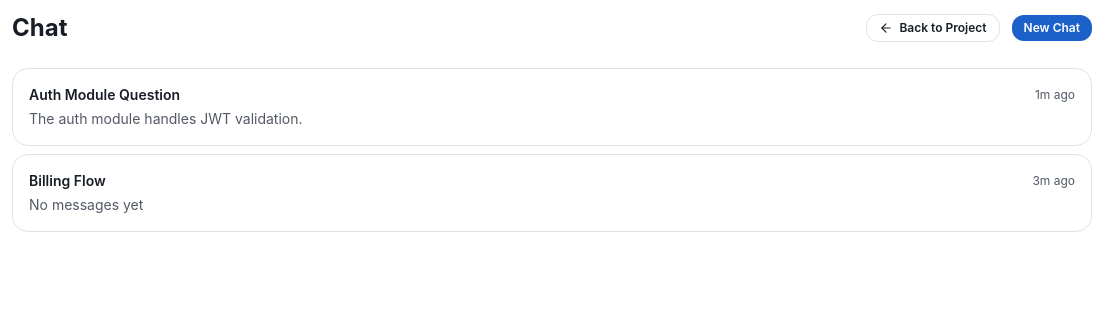
Test: ChatPage (thread list) › logs error when createThread fails and shows alert
Click the button "New Chat".
click(1052, 28)  # box [1012,15,1092,41]
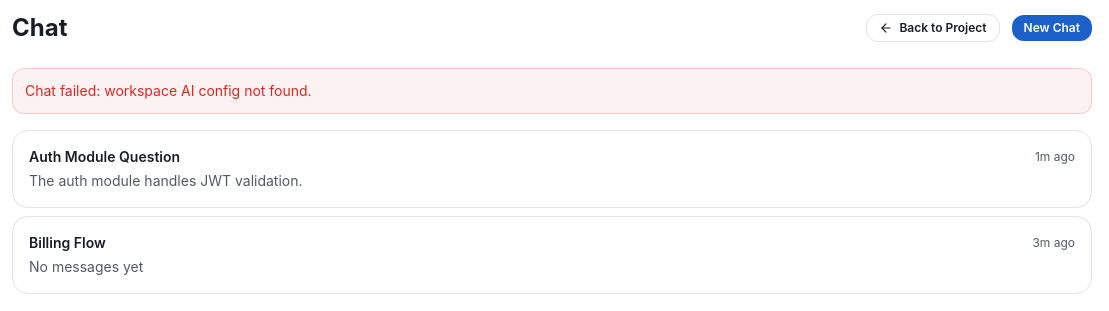
Expected: the text "Chat failed: workspace AI config not found." is shown, [12,68,1092,114]
